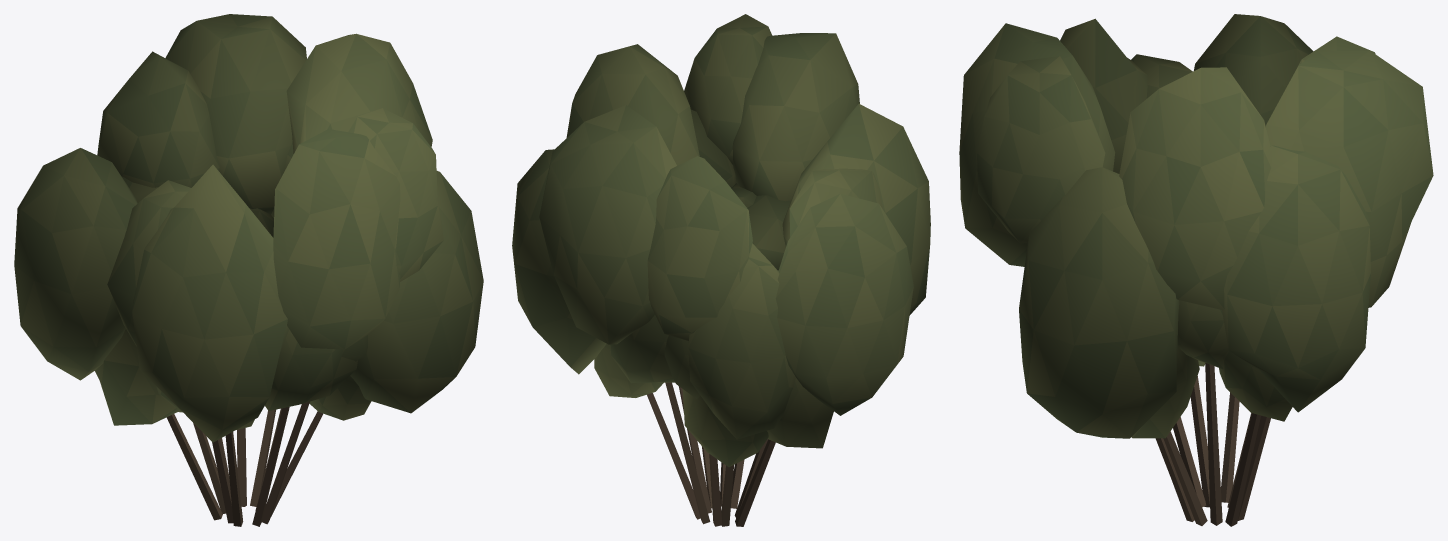
File: jarilla.glb
The picture shows the model from 3 angles, left to right: view 1: azimuth 30°, elevation 25°; view 2: azimuth 150°, elevation 25°; view 3: azimuth 270°, elevation 25°; orthographic projection. The views are drawn at different scales.
Visible parts, largest first — view 1: JarillaCopa, JarillaTallos; view 2: JarillaCopa, JarillaTallos; view 3: JarillaCopa, JarillaTallos.
Boxes of the visible parts, box(x1,y1,x2,y2) form: JarillaCopa: box(14, 14, 483, 442); JarillaTallos: box(166, 401, 322, 526); JarillaCopa: box(512, 14, 930, 466); JarillaTallos: box(647, 382, 775, 526); JarillaCopa: box(959, 14, 1433, 438); JarillaTallos: box(1155, 363, 1270, 526).
Size of the model in its own units: 1.43 by 1.66 by 1.42.
